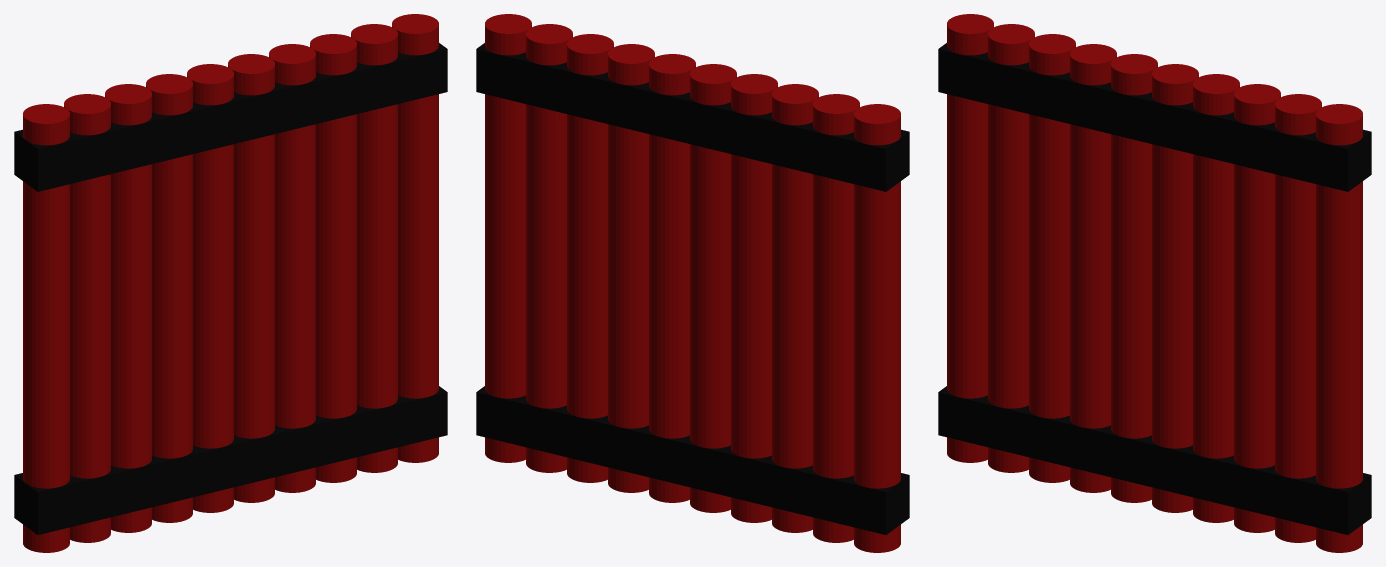
The model's file is динамит.fbx.
The picture shows the model from 3 angles, left to right: view 1: azimuth 30°, elevation 25°; view 2: azimuth 150°, elevation 25°; view 3: azimuth 330°, elevation 25°; orthographic projection.
Parts seen in each view (by area): view 1: Cube; view 2: Cube; view 3: Cube.
Boxes of the visible parts, x1,y1,x2,y2 form: Cube: (14, 14, 447, 552); Cube: (476, 14, 909, 552); Cube: (938, 14, 1371, 552).
Size of the model in its own units: 200 by 200 by 20.
